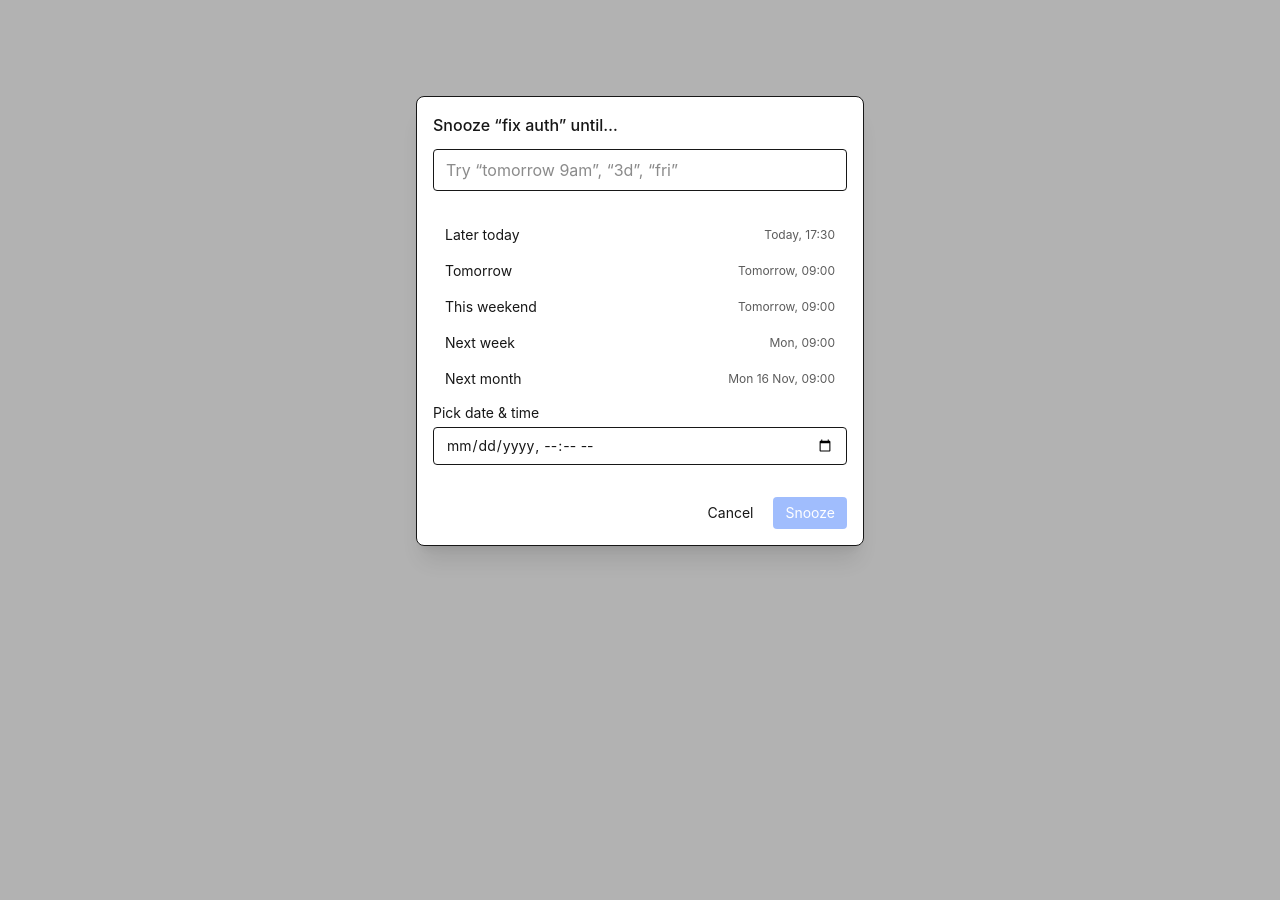
Scenario: SnoozeDialog › disables Snooze until a valid time is chosen
Check: the button "Snooze" is disabled, box [774,497,847,529]
Type "2026-10-10T08:15" into the field labelled "Pick date & time". click: (640, 446)
box: [433,427,847,465]
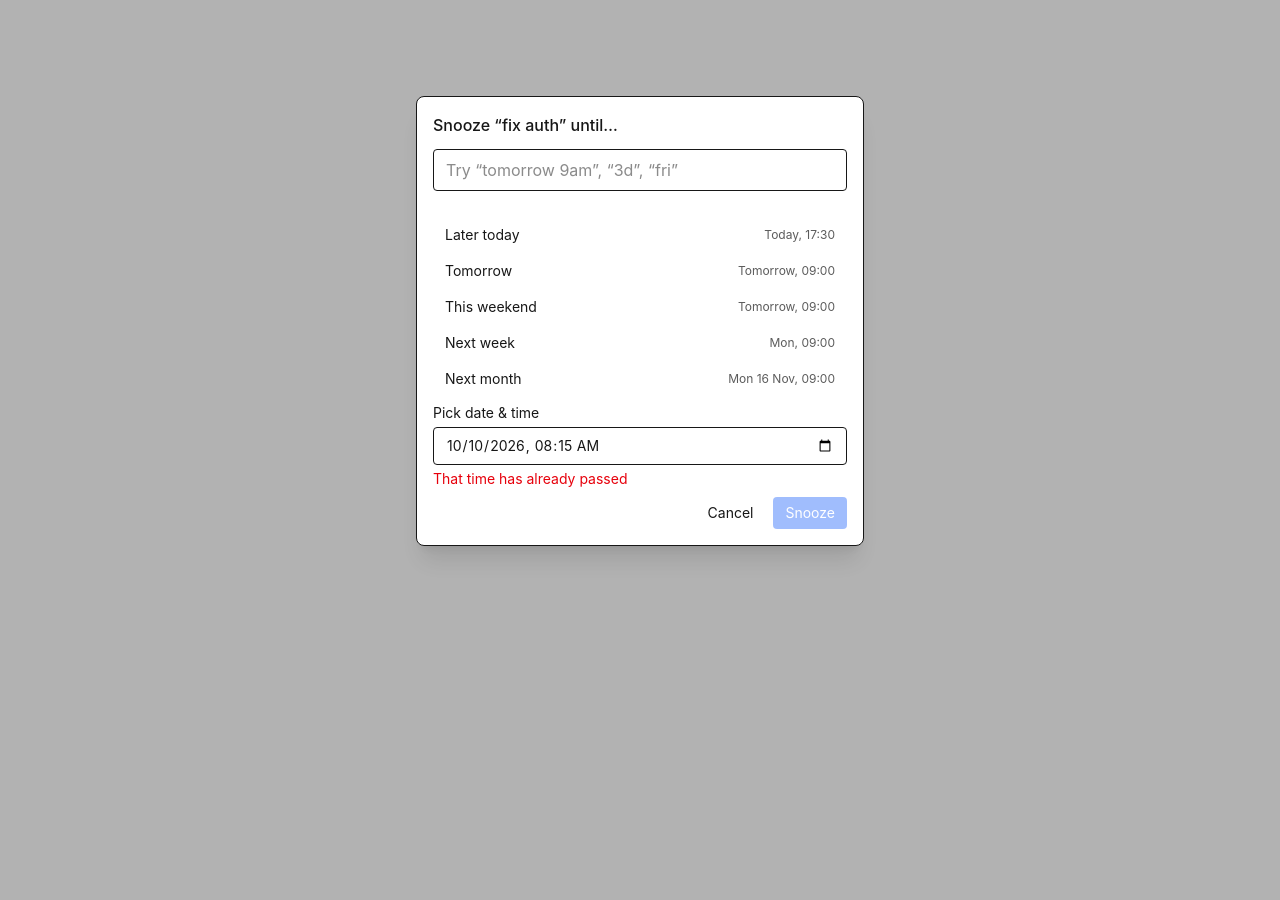
Check: the button "Snooze" is disabled, box [774,497,847,529]
Check: the text "That time has already passed" is shown, box [433,470,628,487]
